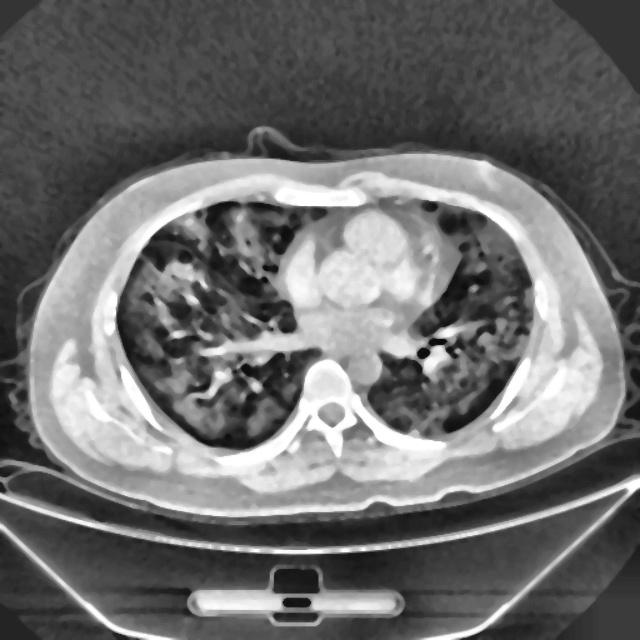covid: (23, 134, 626, 523)
